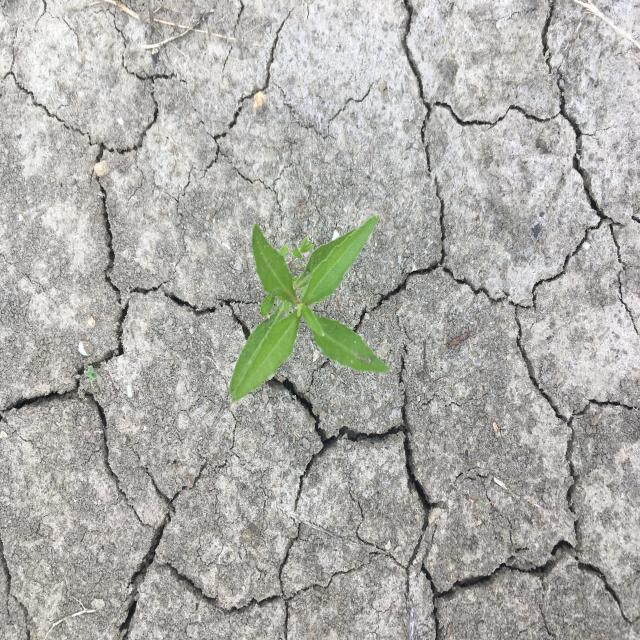Eclipta: (228, 214, 392, 404)
